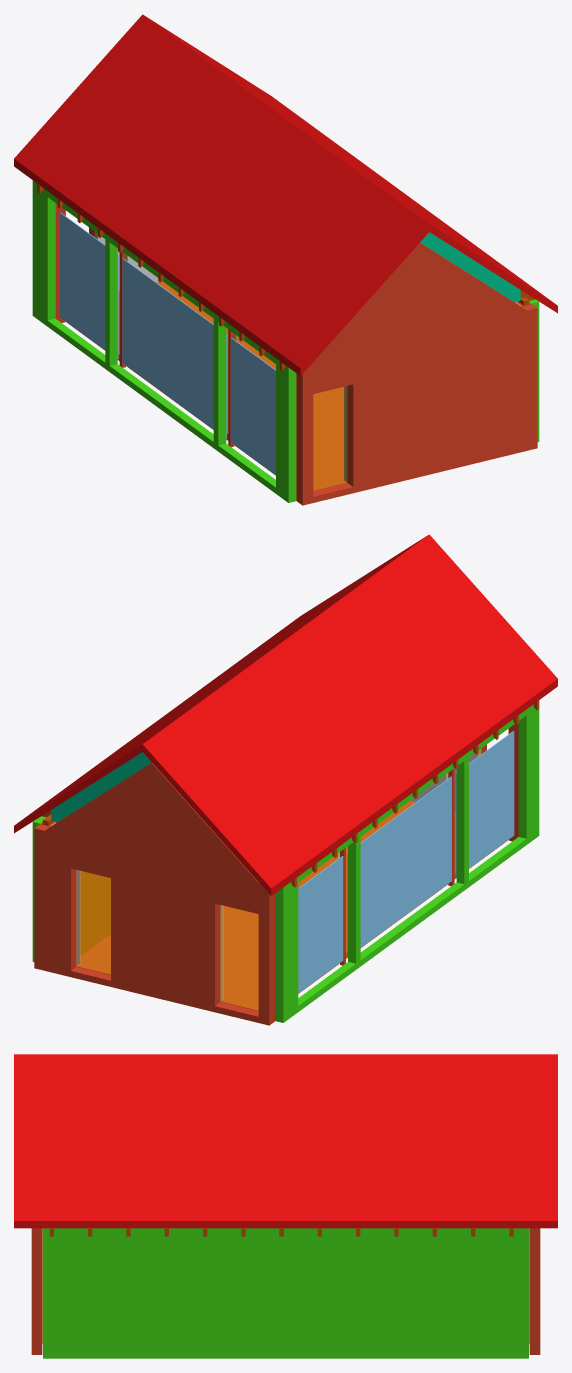
File: obyvak.glb
The picture shows the model from 3 angles, top to bottom: view 1: azimuth 30°, elevation 25°; view 2: azimuth 150°, elevation 25°; view 3: azimuth 270°, elevation 25°; orthographic projection. The views are drawn at different scales.
Visible parts, largest first — view 1: roofing, masonry (×2), glazing (×3), eps, floor, plenum_wool; view 2: roofing, masonry (×2), glazing (×3), eps, floor, furniture, plenum_wool; view 3: roofing, eps, masonry (×2).
Part boxes in pixels (x1,y1,x2,y2): roofing: (14, 14, 557, 376); masonry (×2): (55, 203, 537, 505); glazing (×3): (60, 212, 275, 474); eps: (32, 180, 296, 502); floor: (65, 281, 346, 490); plenum_wool: (420, 232, 520, 301); roofing: (14, 534, 557, 896); masonry (×2): (34, 724, 518, 1025); glazing (×3): (298, 731, 514, 993); eps: (275, 704, 539, 1022); floor: (77, 801, 508, 1010); furniture: (80, 871, 110, 955); plenum_wool: (51, 752, 151, 821); roofing: (14, 1054, 557, 1228); eps: (43, 1228, 528, 1358); masonry (×2): (31, 1228, 540, 1354).
Bounding box in the file's own units: 6.44 × 6.21 × 12.43.
